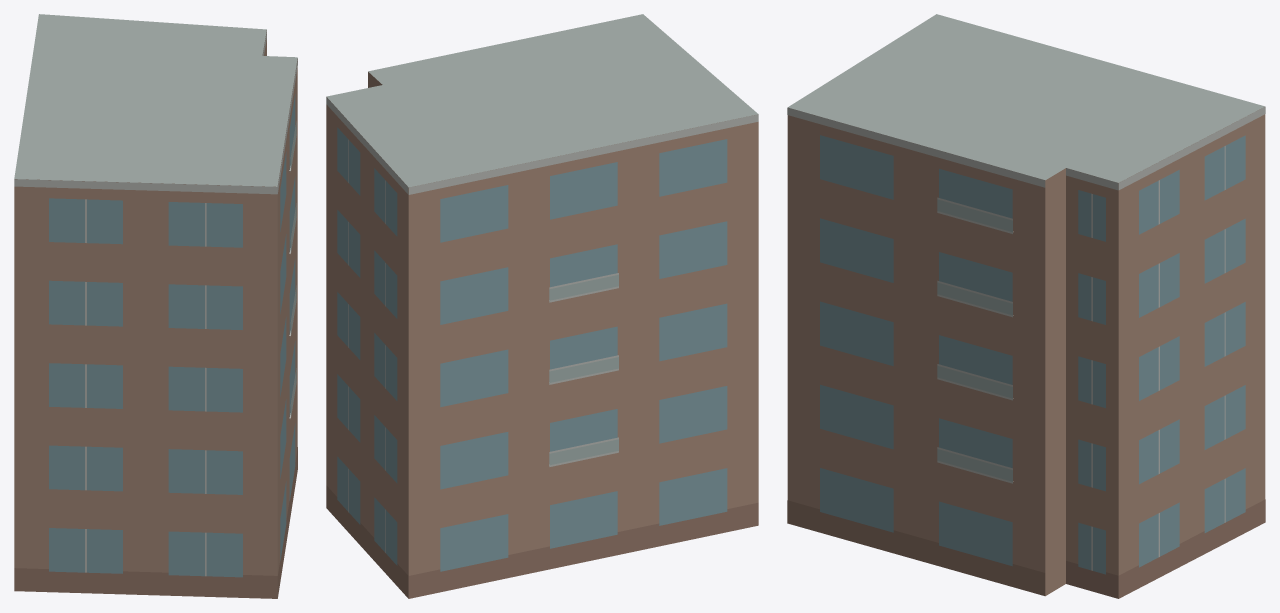
Rendered from survey-upis-32644010.glb.
3 renders of one model, left to right at view 1: azimuth 30°, elevation 25°; view 2: azimuth 150°, elevation 25°; view 3: azimuth 270°, elevation 25°, orthographic.
Visible parts, largest first — view 1: survey-upis-32644010.tmp; view 2: survey-upis-32644010.tmp; view 3: survey-upis-32644010.tmp.
Boxes of the visible parts, x1,y1,x2,y2 form: survey-upis-32644010.tmp: [14, 14, 297, 598]; survey-upis-32644010.tmp: [326, 14, 758, 598]; survey-upis-32644010.tmp: [787, 14, 1265, 598].
Bounding box in the file's own units: 11.63 × 13.35 × 13.91.
